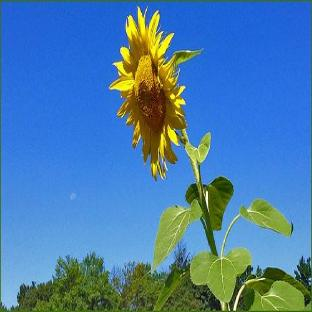sunflower: (109, 7, 210, 181)
